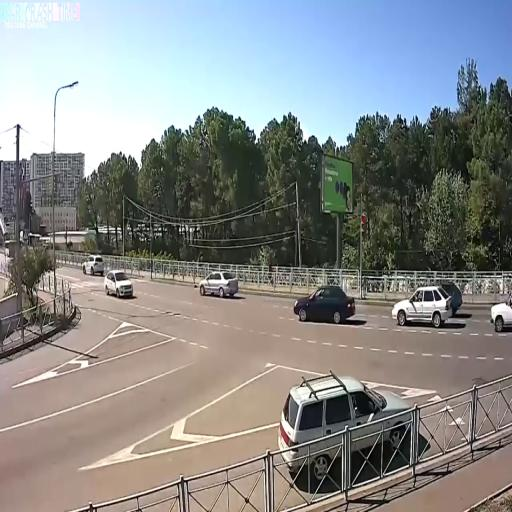小汽车: (278, 374, 410, 469), (295, 282, 355, 326), (392, 286, 452, 328), (197, 268, 239, 300), (104, 268, 135, 302), (489, 289, 512, 330), (81, 253, 105, 275)
